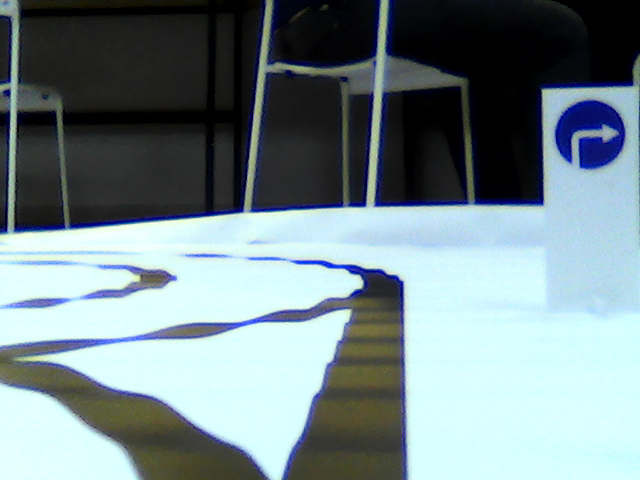Right: (551, 102, 628, 166)
